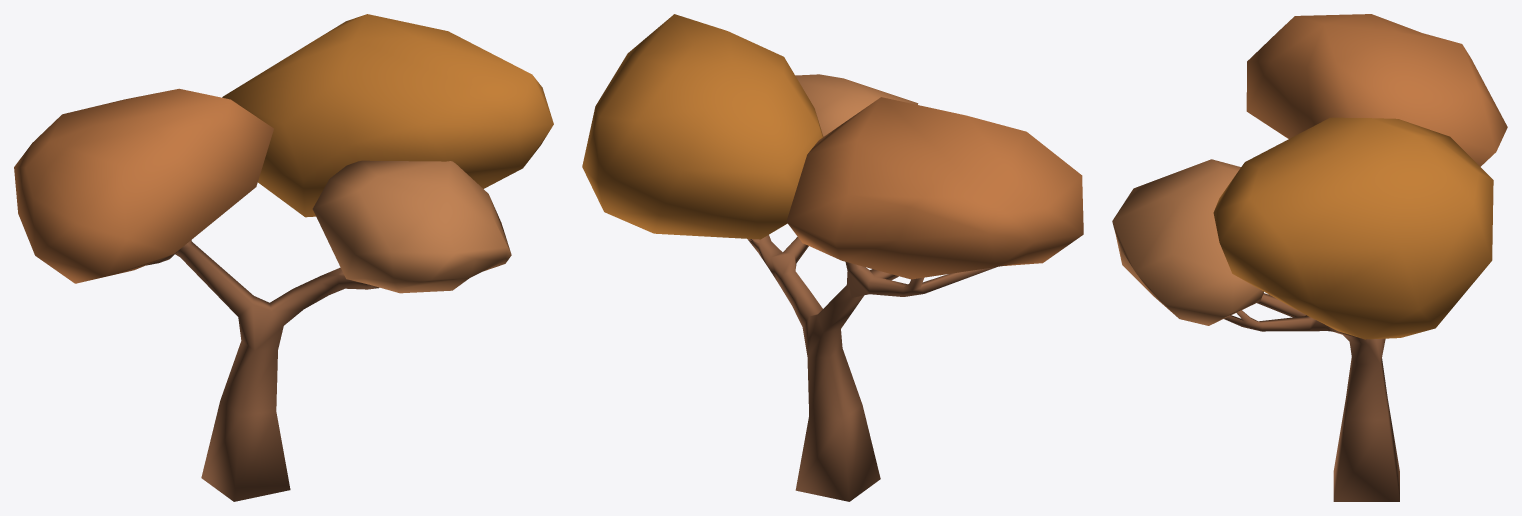
The model's file is Oak_Orange_1.fbx.
3 renders of one model, left to right at view 1: azimuth 30°, elevation 25°; view 2: azimuth 150°, elevation 25°; view 3: azimuth 270°, elevation 25°, orthographic. The views are drawn at different scales.
Visible parts, largest first — view 1: Foliage14, Foliage13, Foliage15, Trunk_5; view 2: Foliage13, Foliage14, Trunk_5, Foliage15; view 3: Foliage14, Foliage13, Foliage15, Trunk_5.
Boxes of the visible parts, x1,y1,x2,y2 form: Foliage14: (222,14,553,217); Foliage13: (14,88,273,283); Foliage15: (312,160,511,293); Trunk_5: (146,240,379,501); Foliage13: (786,97,1083,279); Foliage14: (582,14,823,239); Trunk_5: (747,235,996,501); Foliage15: (795,74,918,136); Foliage14: (1213,117,1493,339); Foliage13: (1246,14,1507,166); Foliage15: (1112,159,1263,325); Trunk_5: (1224,293,1399,501).
Size of the model in its own units: 760 by 615 by 519.
